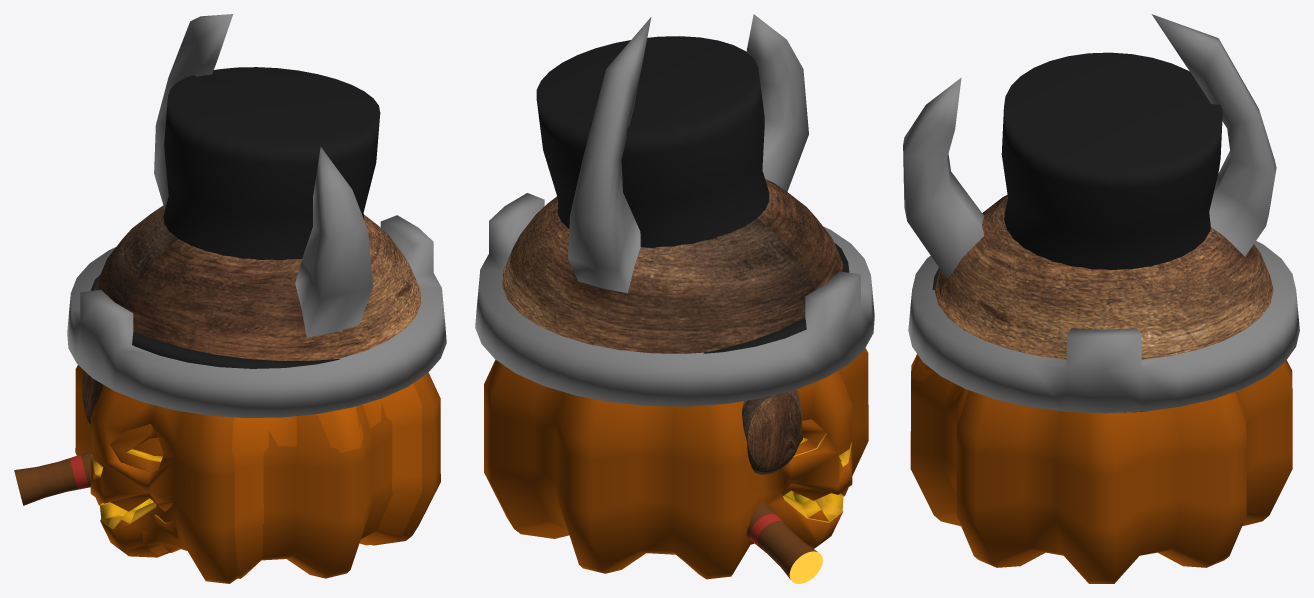
File: Pum.fbx
The picture shows the model from 3 angles, left to right: view 1: azimuth 30°, elevation 25°; view 2: azimuth 150°, elevation 25°; view 3: azimuth 270°, elevation 25°; orthographic projection. The views are drawn at different scales.
Visible parts, largest first — view 1: Helmet, Pumkin v3, Heap, Pumkin v1, Punkin v2, Smoke, Cap; view 2: Helmet, Pumkin v3, Heap, Cap, Smoke, Punkin v2; view 3: Helmet, Pumkin v3, Heap, Pumkin v1.
Boxes of the visible parts, left/top/right/bottom form: Helmet: left=67, top=14, right=446, bottom=417; Pumkin v3: left=75, top=365, right=440, bottom=583; Heap: left=90, top=67, right=380, bottom=368; Pumkin v1: left=133, top=383, right=422, bottom=578; Punkin v2: left=92, top=379, right=433, bottom=583; Smoke: left=14, top=451, right=90, bottom=505; Cap: left=82, top=370, right=103, bottom=424; Helmet: left=475, top=14, right=874, bottom=406; Pumkin v3: left=484, top=348, right=868, bottom=579; Heap: left=536, top=36, right=849, bottom=353; Cap: left=742, top=389, right=803, bottom=474; Smoke: left=746, top=502, right=822, bottom=583; Punkin v2: left=781, top=419, right=850, bottom=521; Helmet: left=903, top=14, right=1299, bottom=413; Pumkin v3: left=910, top=360, right=1292, bottom=583; Heap: left=932, top=52, right=1222, bottom=412; Pumkin v1: left=911, top=354, right=968, bottom=505.
Size of the model in its own units: 661 by 886 by 624.
